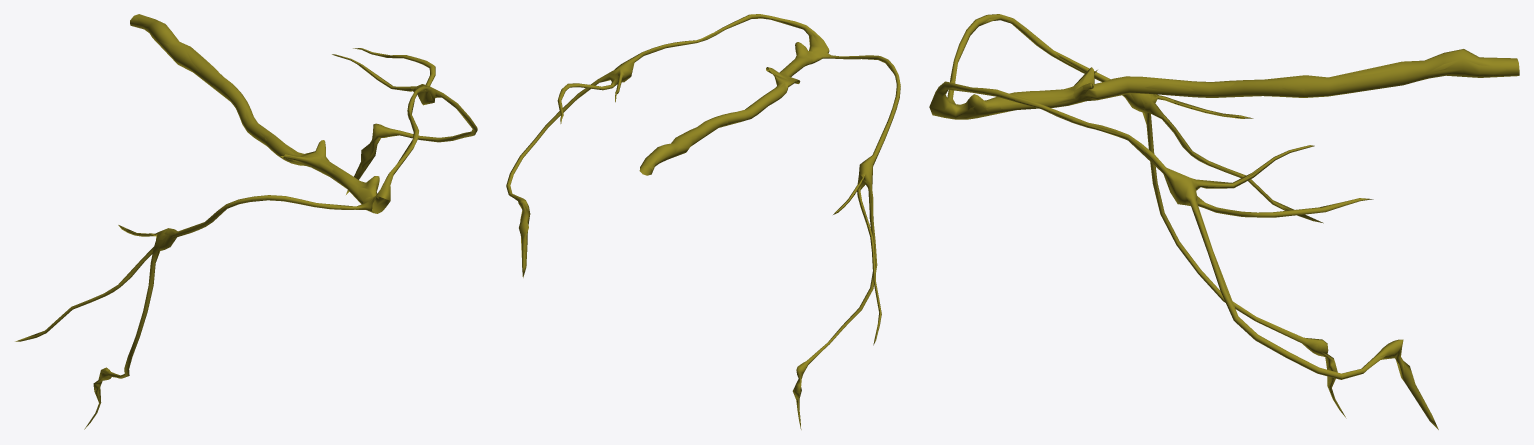
Rendered from lymphocentrum ileosacrale.fbx.
3 views of the same model, side by side, from view 1: azimuth 30°, elevation 25°; view 2: azimuth 150°, elevation 25°; view 3: azimuth 270°, elevation 25° (orthographic). The views are drawn at different scales.
Parts seen in each view (by area): view 1: lymphocentrum ileosacrale, lymphocentrum ileosacrale low; view 2: lymphocentrum ileosacrale, lymphocentrum ileosacrale low; view 3: lymphocentrum ileosacrale, lymphocentrum ileosacrale low.
Boxes of the visible parts, left/top/right/bottom form: lymphocentrum ileosacrale: left=16, top=14, right=477, bottom=429; lymphocentrum ileosacrale low: left=15, top=14, right=474, bottom=427; lymphocentrum ileosacrale: left=506, top=14, right=900, bottom=428; lymphocentrum ileosacrale low: left=508, top=14, right=898, bottom=429; lymphocentrum ileosacrale: left=929, top=14, right=1518, bottom=429; lymphocentrum ileosacrale low: left=933, top=14, right=1519, bottom=420.
Size of the model in its own units: 21.49 by 16.51 by 19.51.
